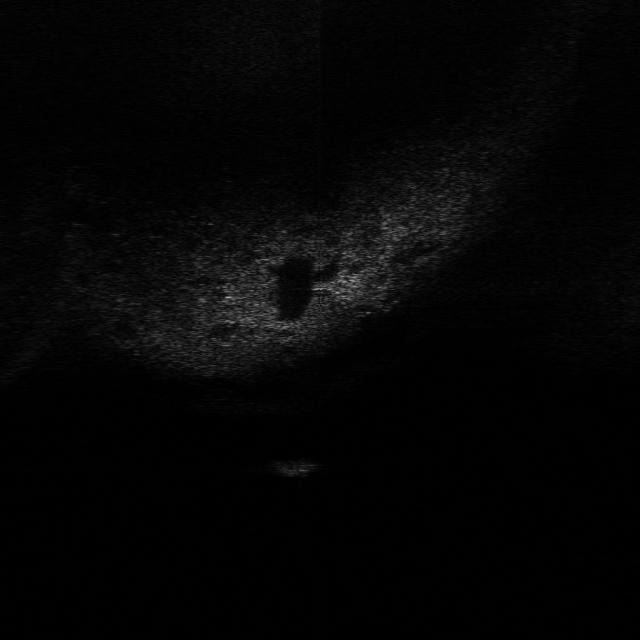cube: (264, 456, 324, 481)
